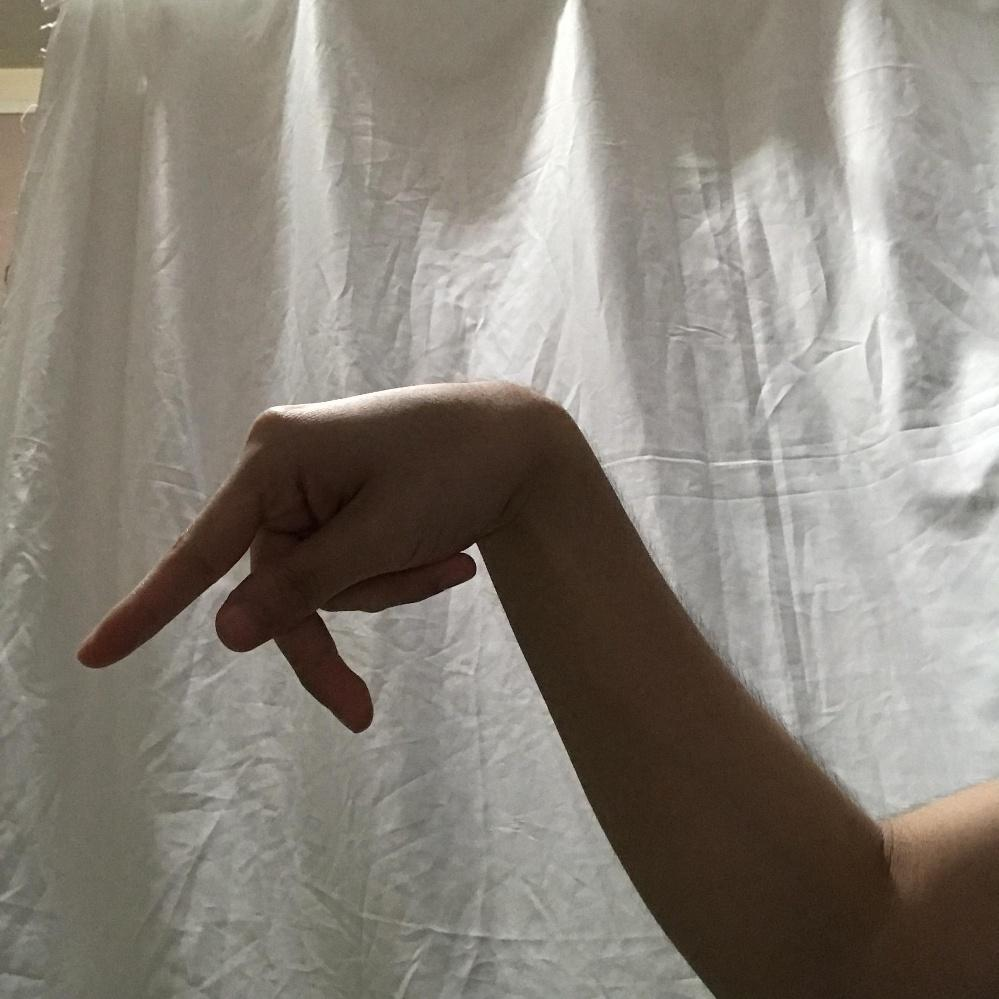p: (79, 378, 560, 736)
